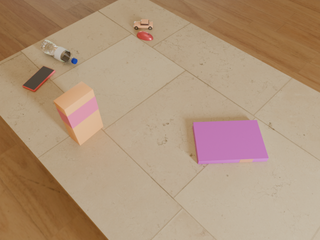book: (193, 120, 269, 164)
bottle: (40, 40, 77, 64)
box: (54, 81, 103, 145)
mouse: (137, 31, 153, 41)
phone: (22, 66, 55, 92)
toy_car: (134, 19, 153, 30)
